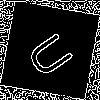U: (25, 25, 83, 81)
